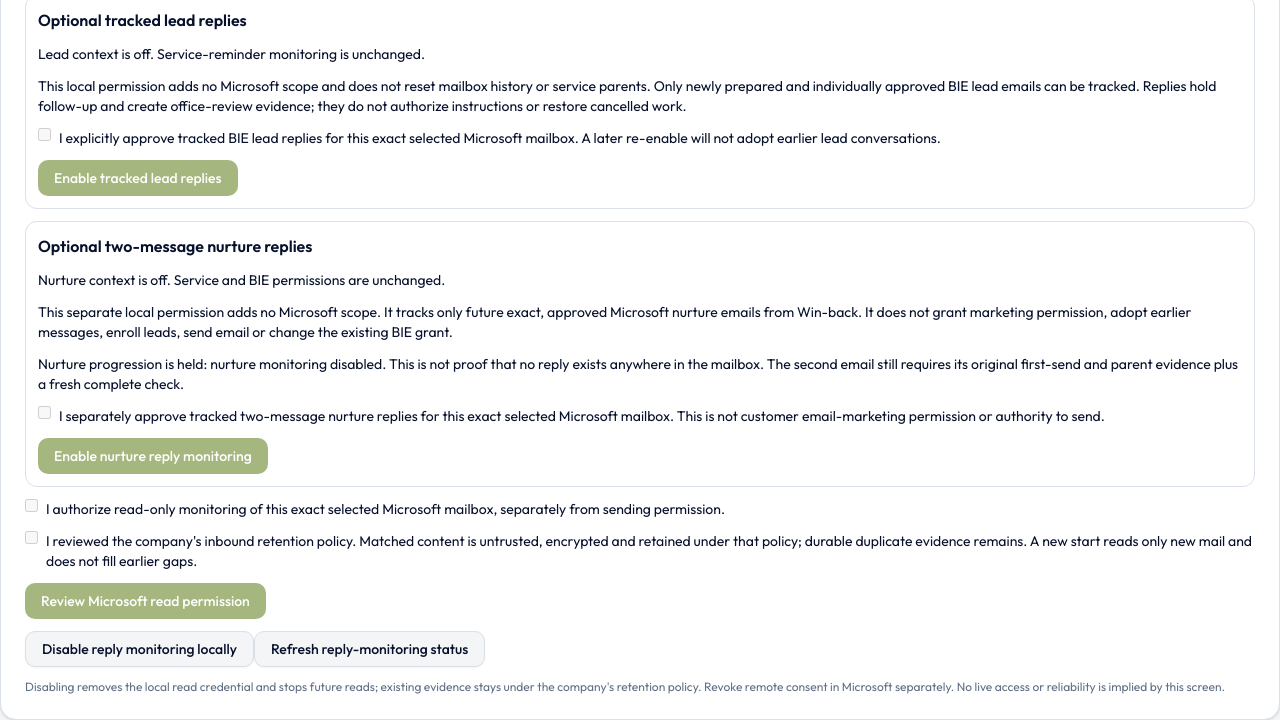
Test: disables locally with exact version even when global read is held, preserving evidence
(page scrolled)
Click the button "Disable reply monitoring locally" at (139, 649), box [25, 631, 254, 667]
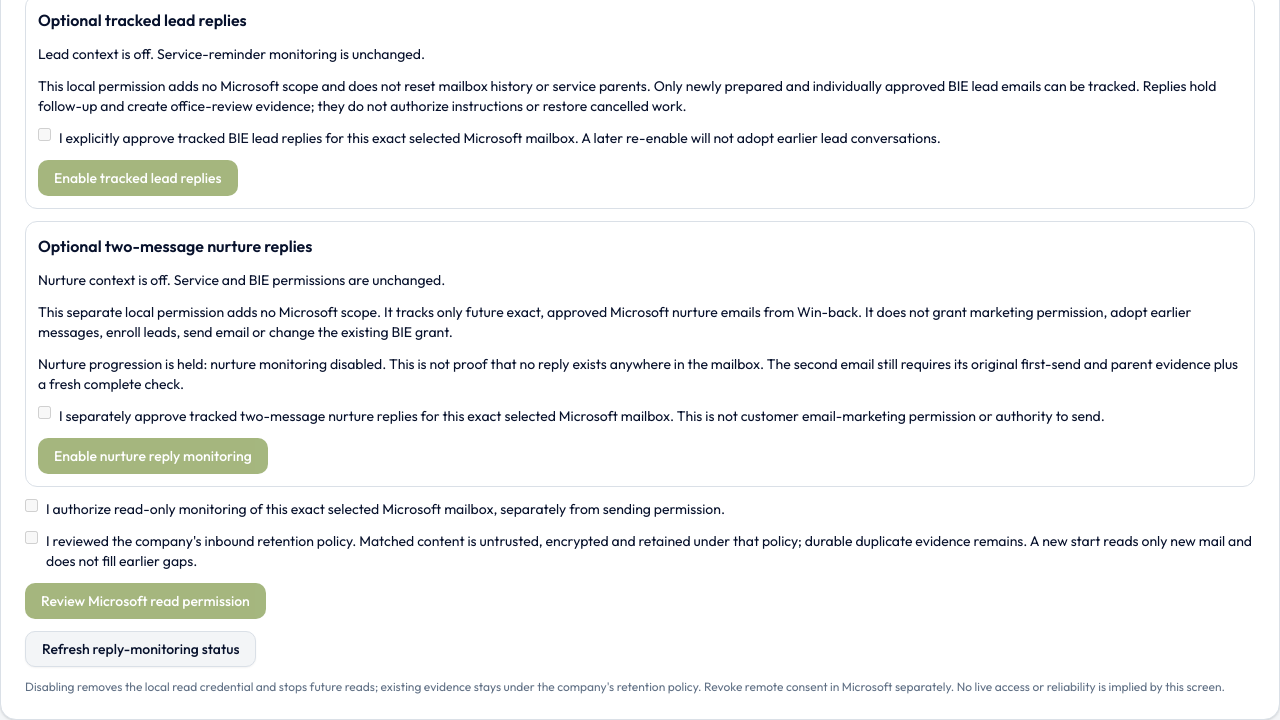
Expected: the text "Revoke remote consent in Microsoft separately" is shown, [25, 679, 1225, 694]
Now the button "Disable reply monitoring locally" is gone
